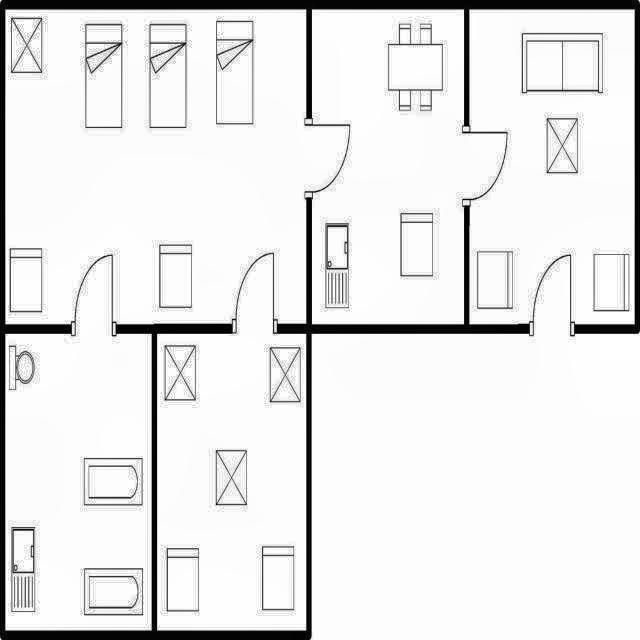room: (5, 9, 306, 324), (469, 9, 635, 324), (312, 9, 464, 324), (157, 334, 306, 631), (5, 334, 152, 631)
